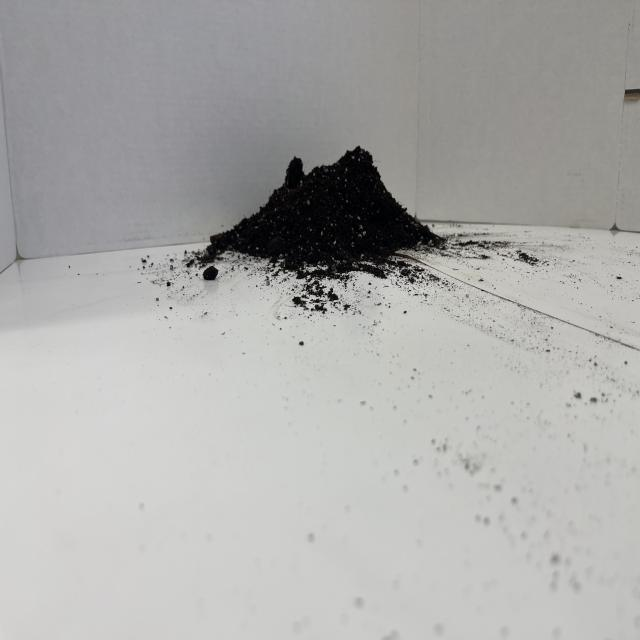soil: (202, 142, 446, 274)
